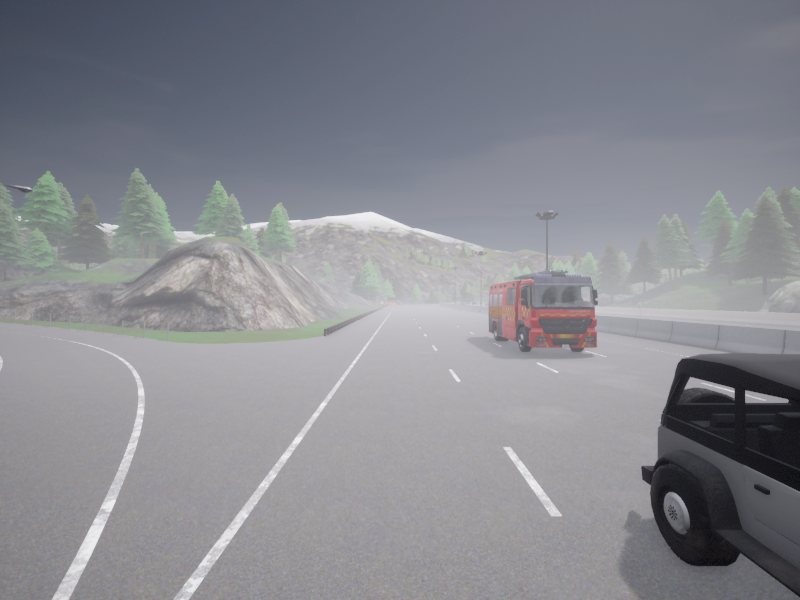vehicle: (641, 353, 799, 596), (488, 270, 597, 351), (472, 302, 476, 304), (465, 301, 469, 303), (460, 302, 464, 304)
